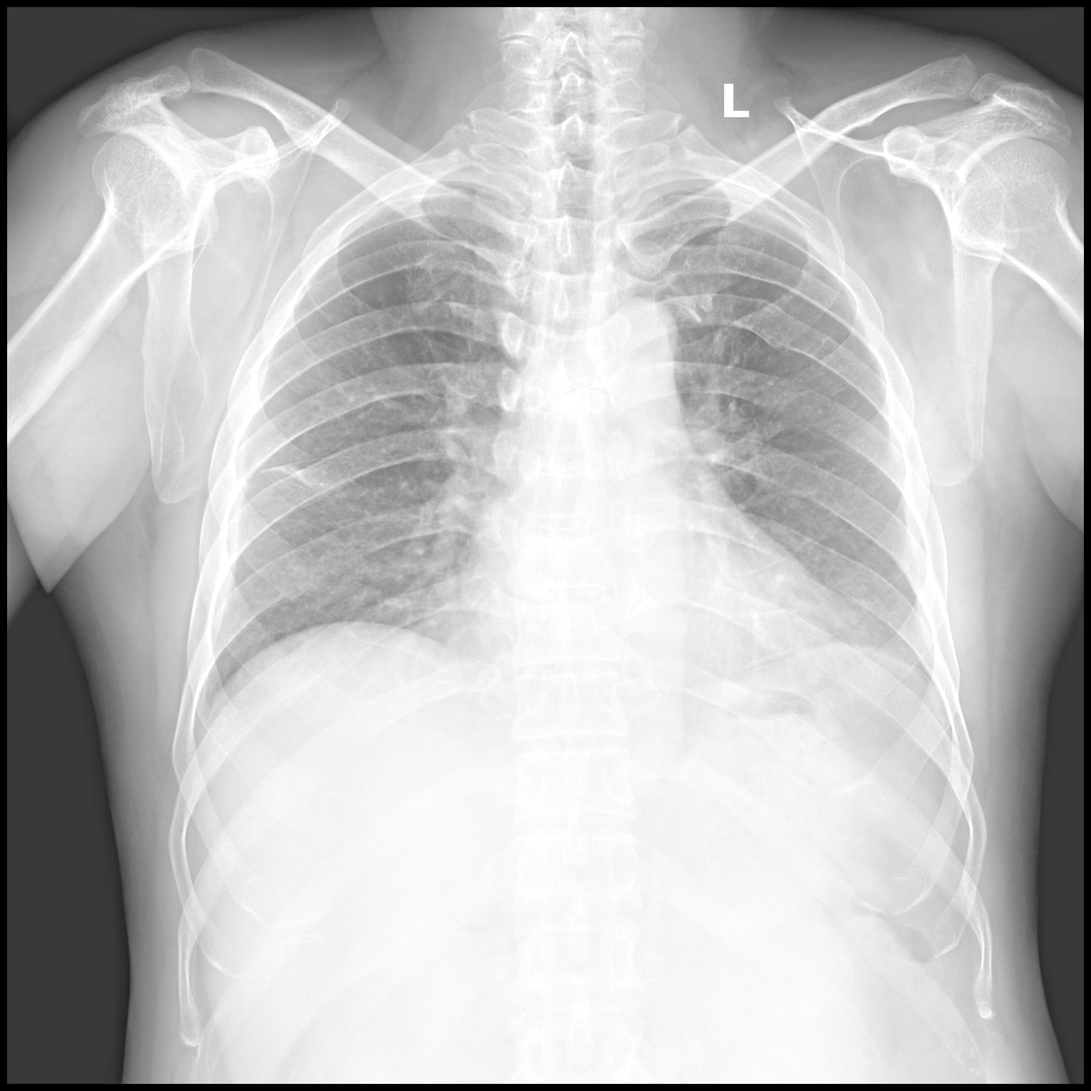Aortic enlargement: (588, 299, 680, 386)
Cardiomegaly: (452, 554, 873, 708)
Pleural thickening: (617, 167, 770, 208), (420, 163, 507, 198)
Pulmonary fibrosis: (253, 457, 341, 494)
